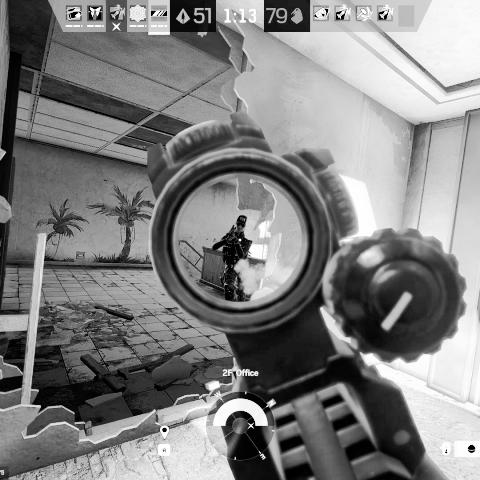Character: (211, 214, 256, 304)
Head: (234, 215, 248, 232)
